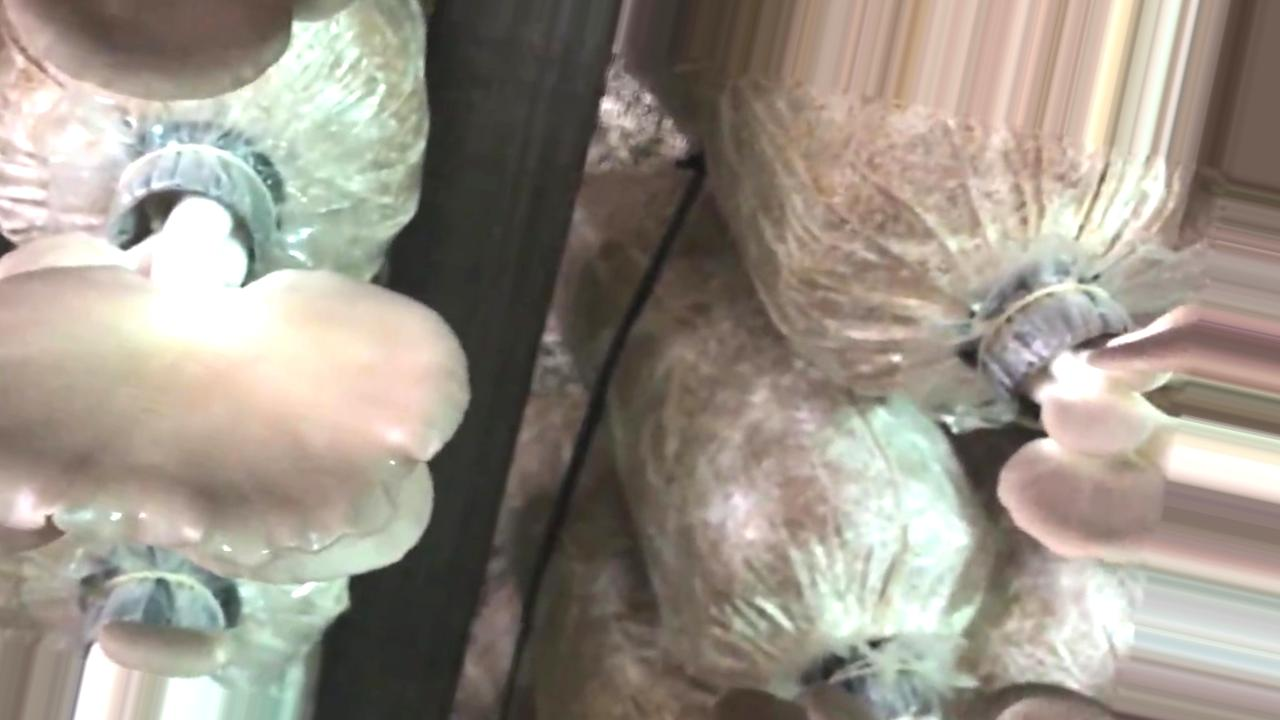nam: (1, 145, 480, 588), (996, 287, 1195, 564), (1, 4, 360, 107), (76, 567, 243, 720)
